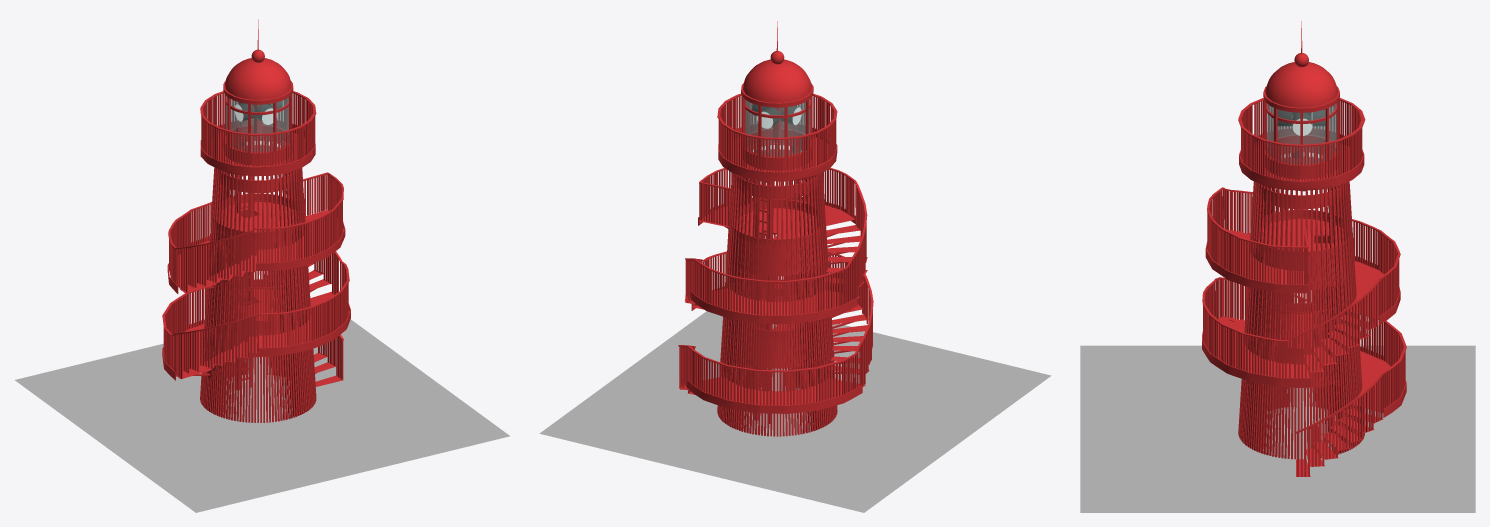
File: farol_vermelho.glb
3 views of the same model, side by side, from view 1: azimuth 30°, elevation 25°; view 2: azimuth 150°, elevation 25°; view 3: azimuth 270°, elevation 25° (orthographic). The views are drawn at different scales.
Visible parts, largest first — view 1: polySurface263, pPlane1; view 2: polySurface263, pPlane1; view 3: polySurface263, pPlane1.
Boxes of the visible parts, x1,y1,x2,y2 form: polySurface263: [162, 19, 350, 422]; pPlane1: [15, 319, 509, 512]; polySurface263: [678, 21, 873, 436]; pPlane1: [539, 311, 1051, 512]; polySurface263: [1202, 21, 1406, 476]; pPlane1: [1080, 345, 1475, 512].
Bounding box in the file's own units: 0.2073 × 0.2422 × 0.2073.
